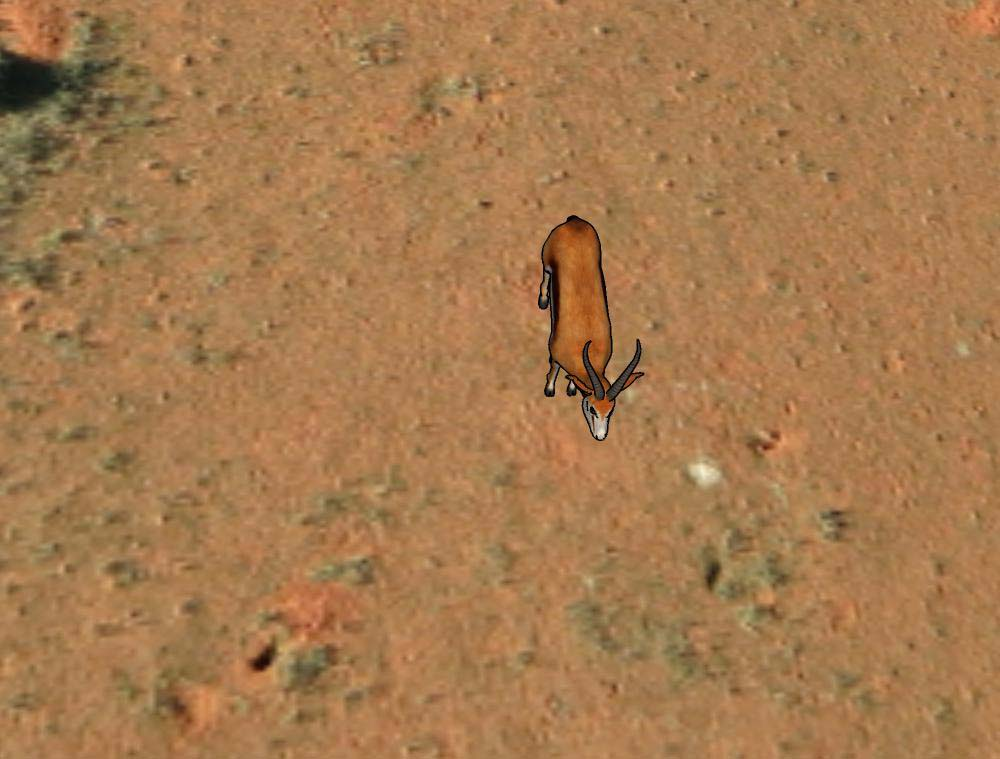springbok: (530, 216, 646, 448)
